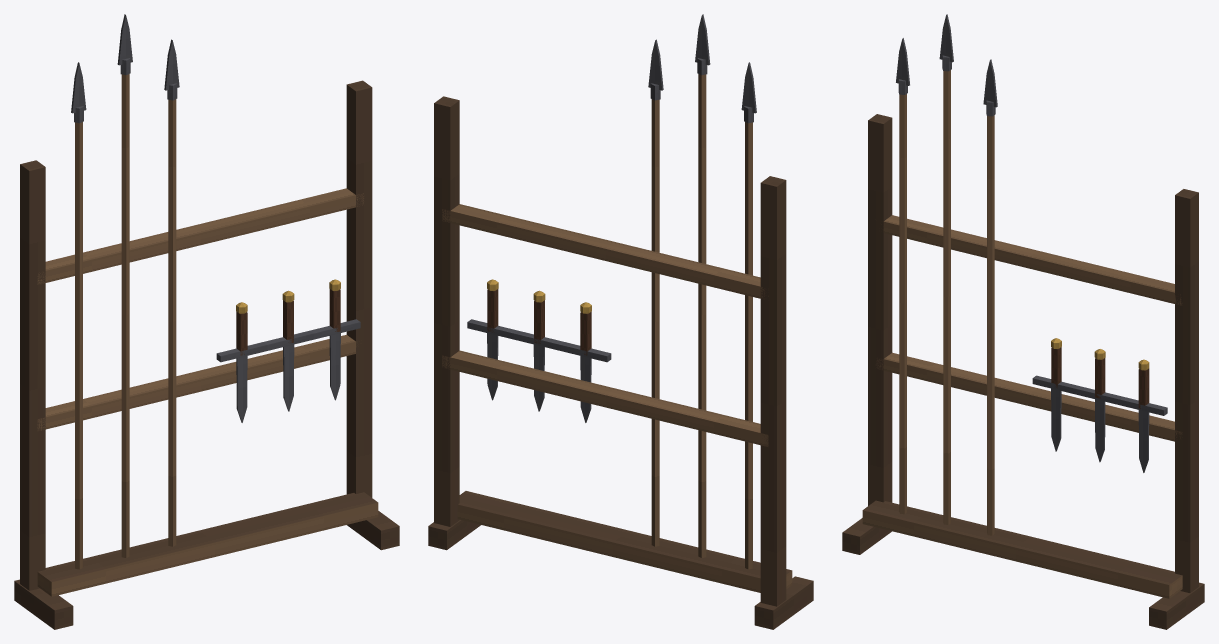
Rendered from weapon-rack.glb.
The picture shows the model from 3 angles, left to right: view 1: azimuth 30°, elevation 25°; view 2: azimuth 150°, elevation 25°; view 3: azimuth 330°, elevation 25°; orthographic projection. The views are drawn at different scales.
Parts seen in each view (by area): view 1: weapon-rack.001; view 2: weapon-rack.001; view 3: weapon-rack.001.
Part boxes in pixels (x1,y1,x2,y2): weapon-rack.001: (14,14,399,629); weapon-rack.001: (428,14,813,629); weapon-rack.001: (842,14,1204,629).
Bounding box in the file's own units: 1.48 × 2.37 × 0.3.
1 material, 1 textured.
